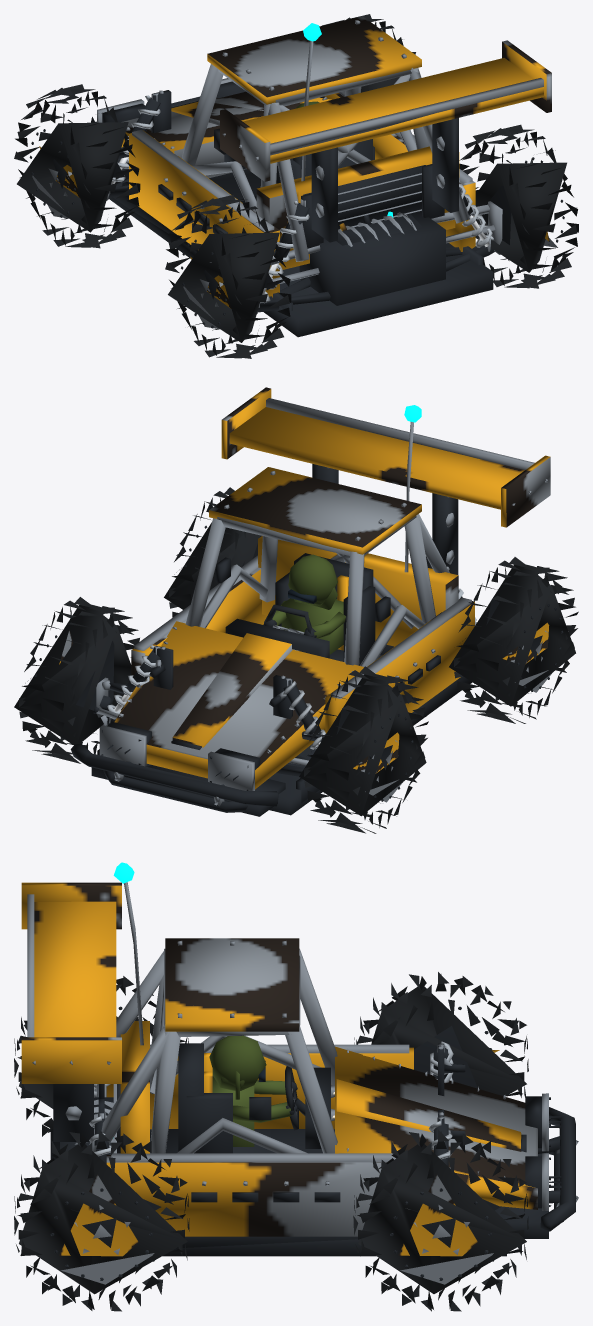
Rendered from buggy_lod1.glb.
3 renders of one model, top to bottom at view 1: azimuth 30°, elevation 25°; view 2: azimuth 150°, elevation 25°; view 3: azimuth 270°, elevation 25°, orthographic. The views are drawn at different scales.
Parts seen in each view (by area): view 1: BuggyBody, Wheel_1_-0.9, Wheel_1_0.92, Wheel_-1_-0.9, Wheel_-1_0.92; view 2: BuggyBody, Wheel_1_0.92, Wheel_1_-0.9, Wheel_-1_0.92, Wheel_-1_-0.9; view 3: BuggyBody, Wheel_-1_0.92, Wheel_-1_-0.9, Wheel_1_0.92, Wheel_1_-0.9.
Part boxes in pixels (box(x1,y1,x2,y2)): BuggyBody: box(95, 16, 551, 337); Wheel_1_-0.9: box(165, 195, 291, 358); Wheel_1_0.92: box(14, 84, 140, 248); Wheel_-1_-0.9: box(459, 124, 578, 288); Wheel_-1_0.92: box(320, 14, 415, 98); BuggyBody: box(70, 387, 550, 816); Wheel_1_0.92: box(299, 666, 428, 833); Wheel_1_-0.9: box(449, 557, 578, 723); Wheel_-1_0.92: box(14, 597, 139, 763); Wheel_-1_-0.9: box(164, 487, 261, 617); BuggyBody: box(21, 862, 578, 1256); Wheel_-1_0.92: box(353, 1129, 528, 1311); Wheel_-1_-0.9: box(14, 1129, 189, 1311); Wheel_1_0.92: box(354, 972, 528, 1097); Wheel_1_-0.9: box(14, 976, 188, 1136).
Size of the model in its own units: 2.4 by 1.98 by 3.03.
Materials: 12 (1 with a texture image).
